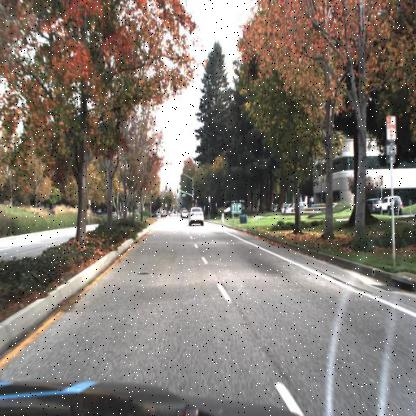car: (379, 193, 403, 216), (188, 205, 206, 227), (362, 197, 382, 212)
